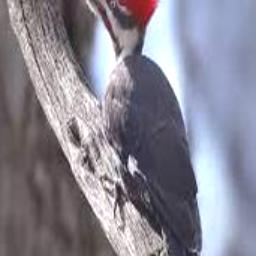Woodpecker: (69, 0, 207, 256)
